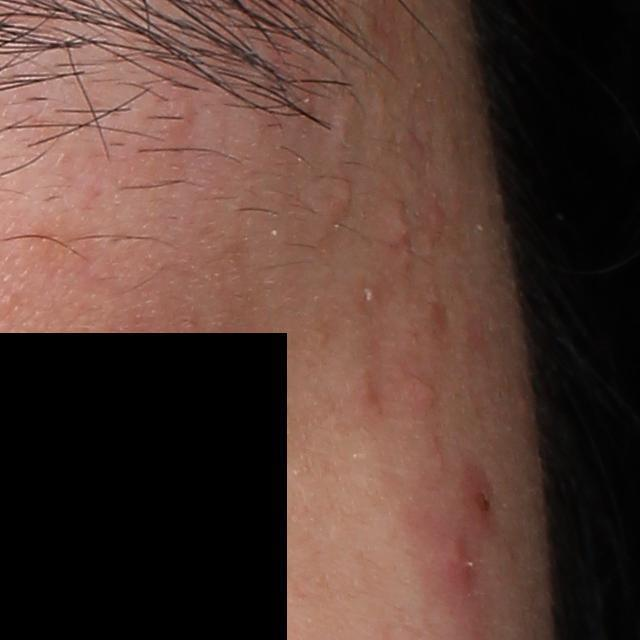papule: (461, 461, 495, 534), (406, 374, 438, 410), (329, 180, 354, 212)
